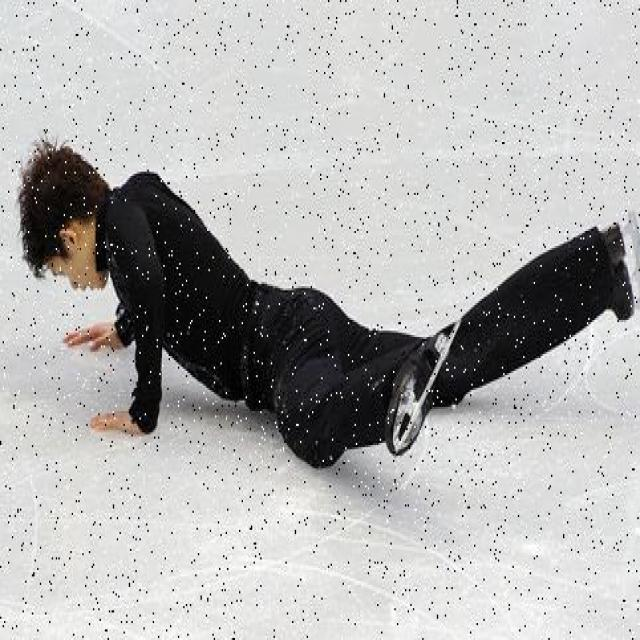fall: (15, 131, 634, 458)
